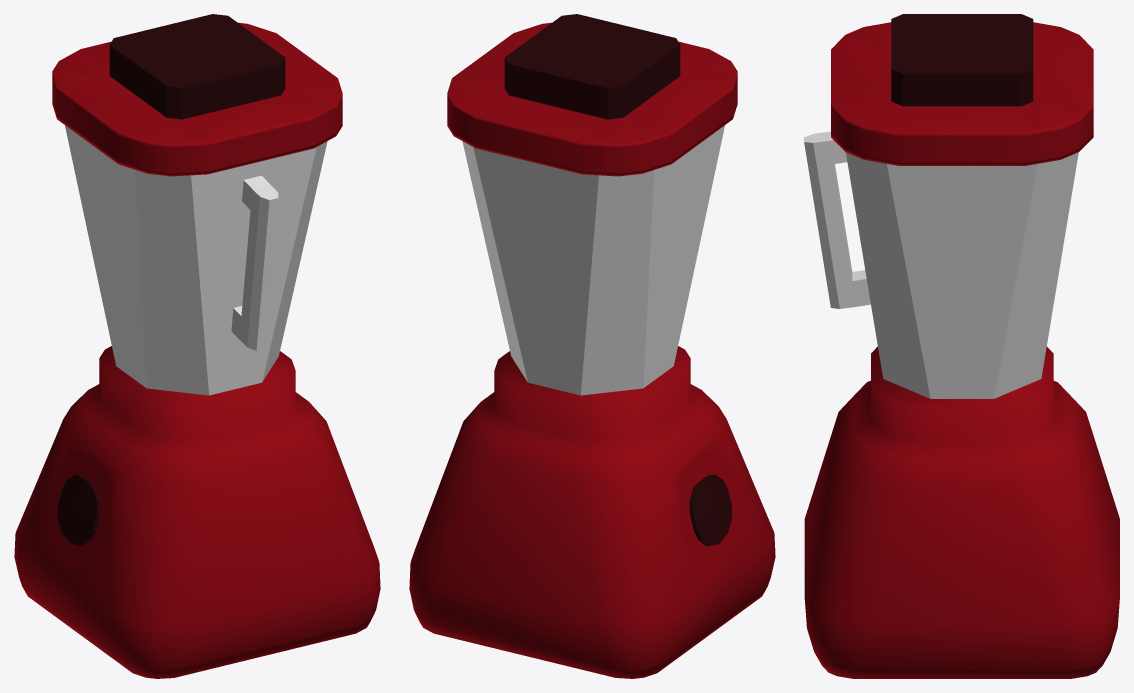
The model's file is Blender2.fbx.
3 views of the same model, side by side, from view 1: azimuth 30°, elevation 25°; view 2: azimuth 150°, elevation 25°; view 3: azimuth 270°, elevation 25° (orthographic). The views are drawn at different scales.
Parts seen in each view (by area): view 1: Cube.003, Tapa; view 2: Cube.003, Tapa; view 3: Cube.003, Tapa.
Boxes of the visible parts, left/top/right/bottom form: Cube.003: left=14, top=125, right=380, bottom=678; Tapa: left=52, top=14, right=342, bottom=176; Cube.003: left=409, top=125, right=775, bottom=678; Tapa: left=447, top=14, right=737, bottom=176; Cube.003: left=804, top=131, right=1119, bottom=678; Tapa: left=831, top=14, right=1093, bottom=165.
Size of the model in its own units: 176 by 355 by 177.
